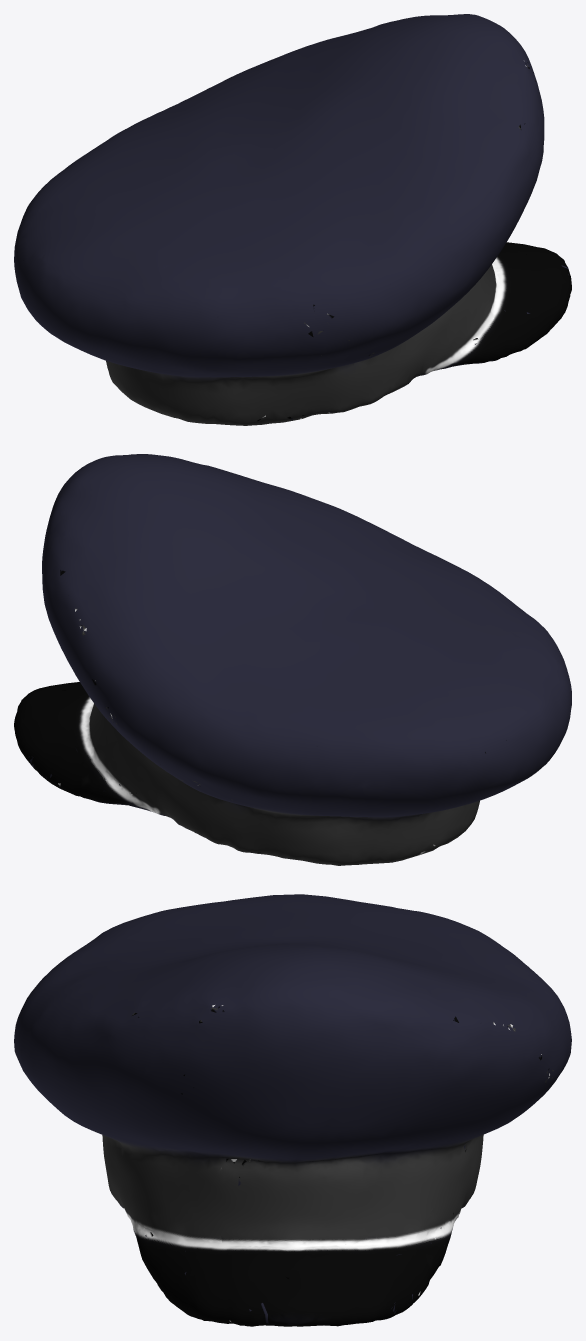
The model's file is officer_police_captain_pilot_hat_cap_whatever.glb.
3 renders of one model, top to bottom at view 1: azimuth 30°, elevation 25°; view 2: azimuth 150°, elevation 25°; view 3: azimuth 270°, elevation 25°, orthographic. The views are drawn at different scales.
Parts seen in each view (by area): view 1: kamah_0; view 2: kamah_0; view 3: kamah_0.
Boxes of the visible parts, box(x1,y1,x2,y2) form: kamah_0: box(14, 14, 571, 425); kamah_0: box(14, 454, 571, 865); kamah_0: box(14, 894, 571, 1326).
Size of the model in its own units: 2.44 by 1.32 by 1.95.
1 material, 1 textured.
